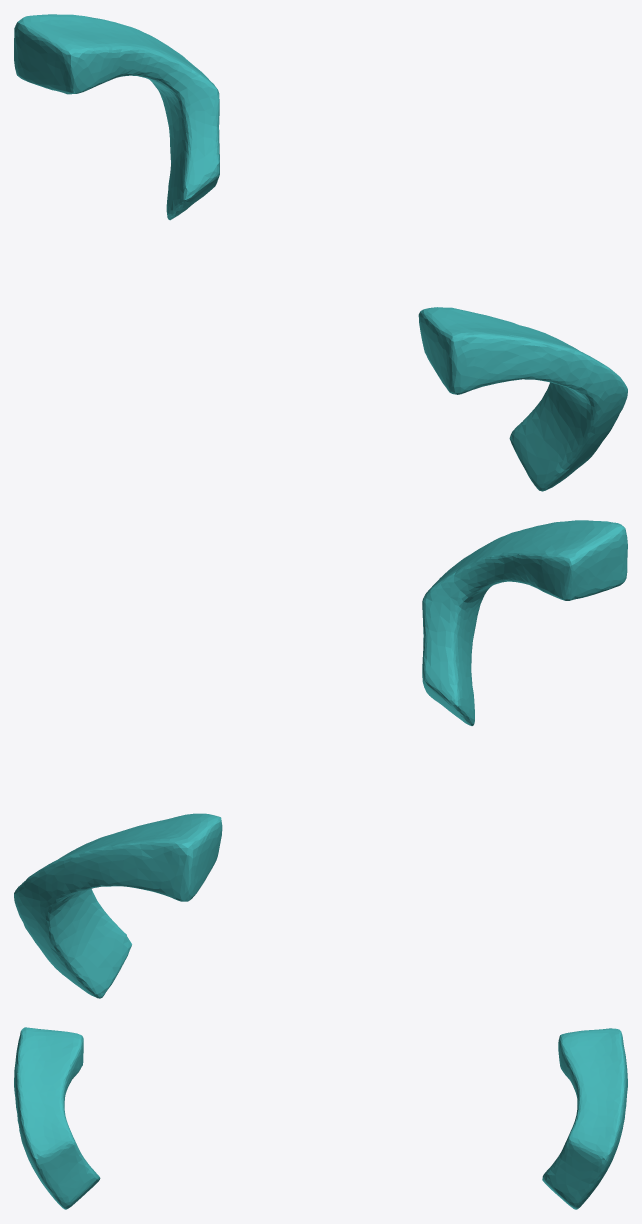
The picture shows the model from 3 angles, top to bottom: view 1: azimuth 30°, elevation 25°; view 2: azimuth 150°, elevation 25°; view 3: azimuth 270°, elevation 25°; orthographic projection. The views are drawn at different scales.
Parts seen in each view (by area): view 1: 541.obj; view 2: 541.obj; view 3: 541.obj.
Part boxes in pixels (x1=…): 541.obj: x1=14, y1=14, x2=627, y2=491; 541.obj: x1=14, y1=520, x2=627, y2=998; 541.obj: x1=14, y1=1027, x2=627, y2=1209.
Bounding box in the file's own units: 2492 × 2635 × 10344.
